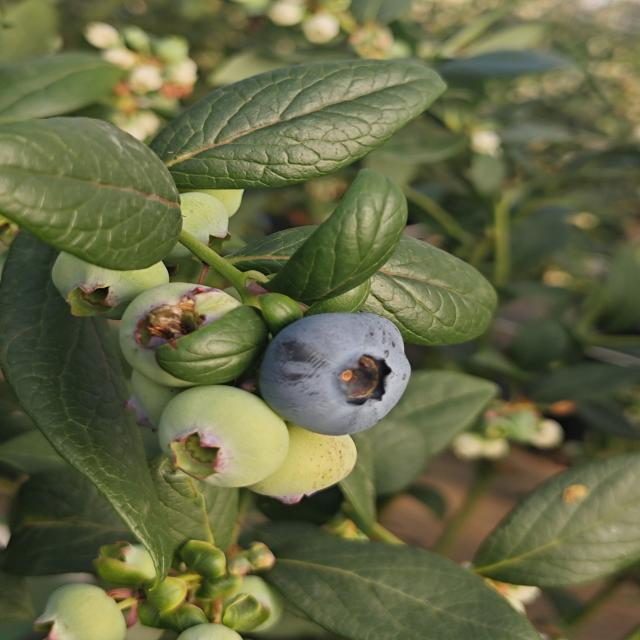ripe: (252, 303, 429, 439)
